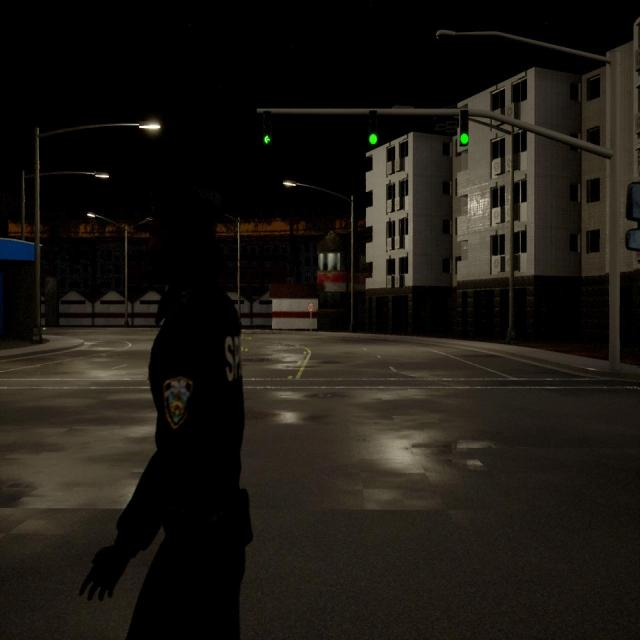Pedestrian: (80, 202, 246, 638)
Traffic_Signs: (308, 304, 314, 311)
traffic_light: (368, 110, 378, 145), (459, 111, 468, 145), (263, 112, 271, 144)
